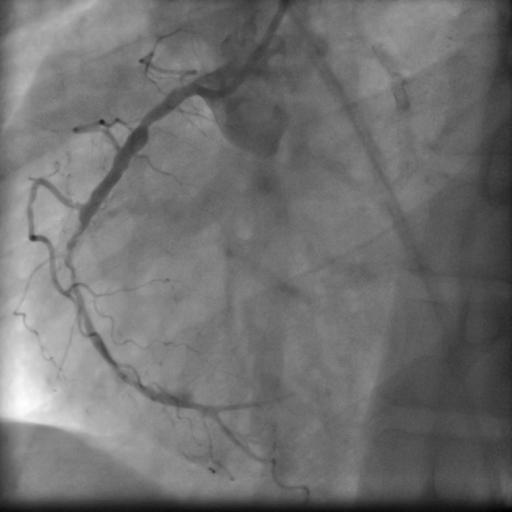Stenosis: (140, 100, 167, 131)
